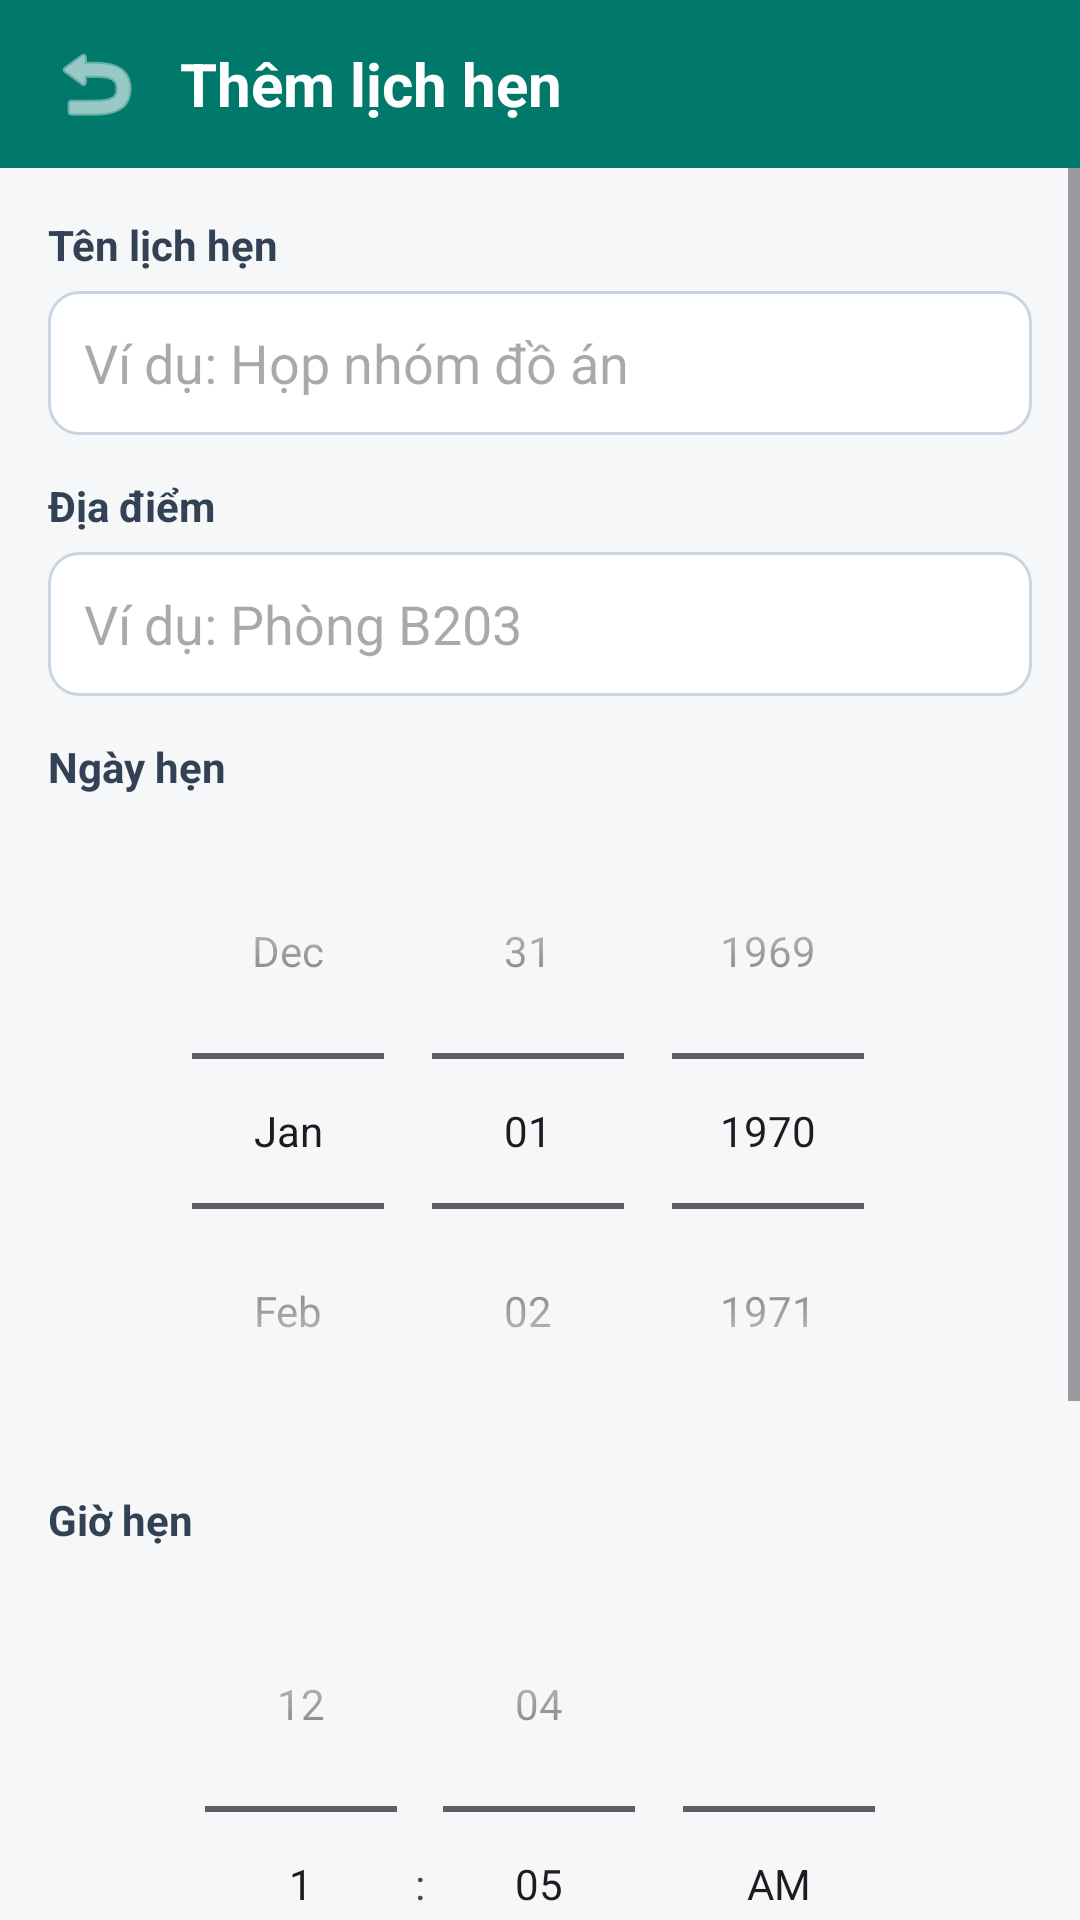

Named icons in this screenshot (1080 x 1920) and their bounding boxes, BBox(x1, y1, x2, y2):
revert: BBox(63, 53, 132, 116)
